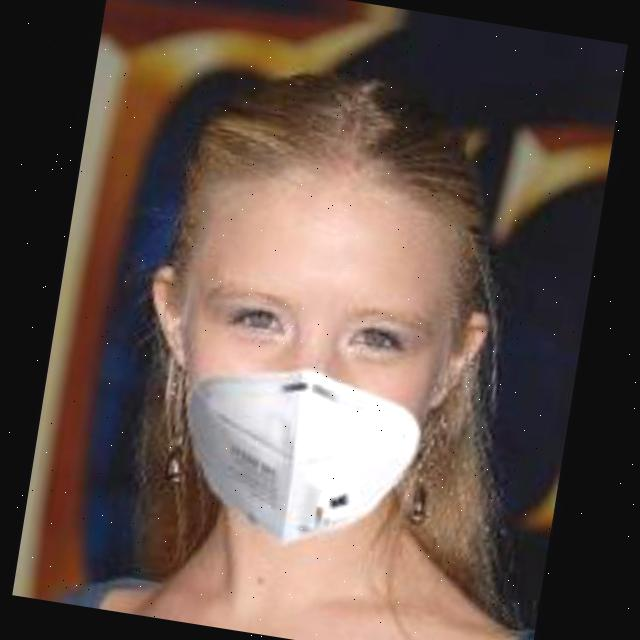suspicion: (91, 74, 535, 580)
